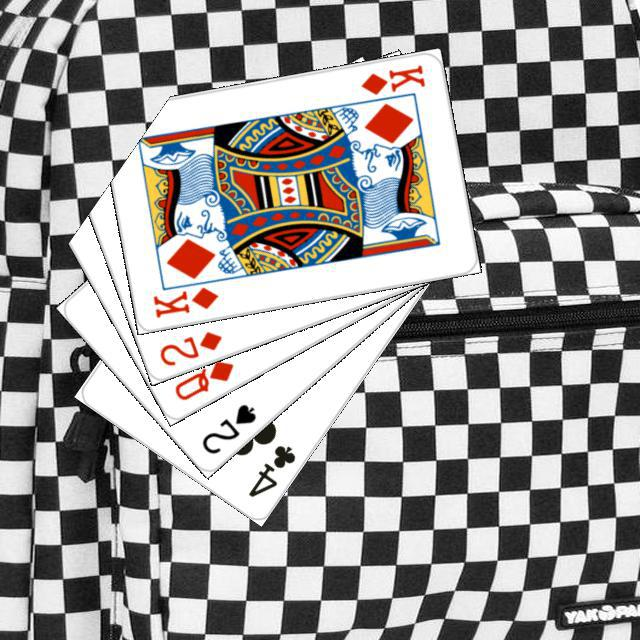2d: (154, 326, 224, 368)
2s: (197, 399, 258, 456)
4c: (243, 439, 298, 499)
Kd: (148, 282, 220, 320), (356, 60, 427, 97)
Qd: (169, 355, 236, 403)
